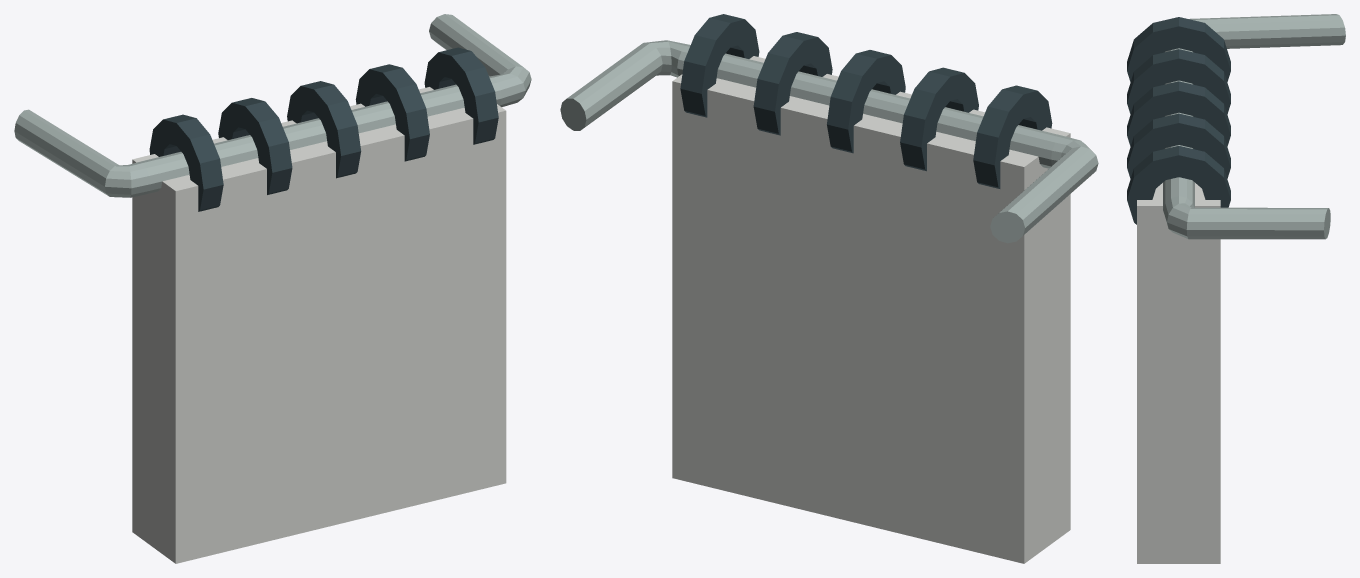
The model's file is calendario.fbx.
3 renders of one model, left to right at view 1: azimuth 30°, elevation 25°; view 2: azimuth 150°, elevation 25°; view 3: azimuth 270°, elevation 25°, orthographic. The views are drawn at different scales.
Visible parts, largest first — view 1: Circle.015; view 2: Circle.015; view 3: Circle.015.
Boxes of the visible parts, <box> form: Circle.015: <box>14,14,531,563</box>; Circle.015: <box>560,14,1098,563</box>; Circle.015: <box>1127,14,1345,563</box>.
Size of the model in its own units: 44.85 by 40.73 by 20.07.
